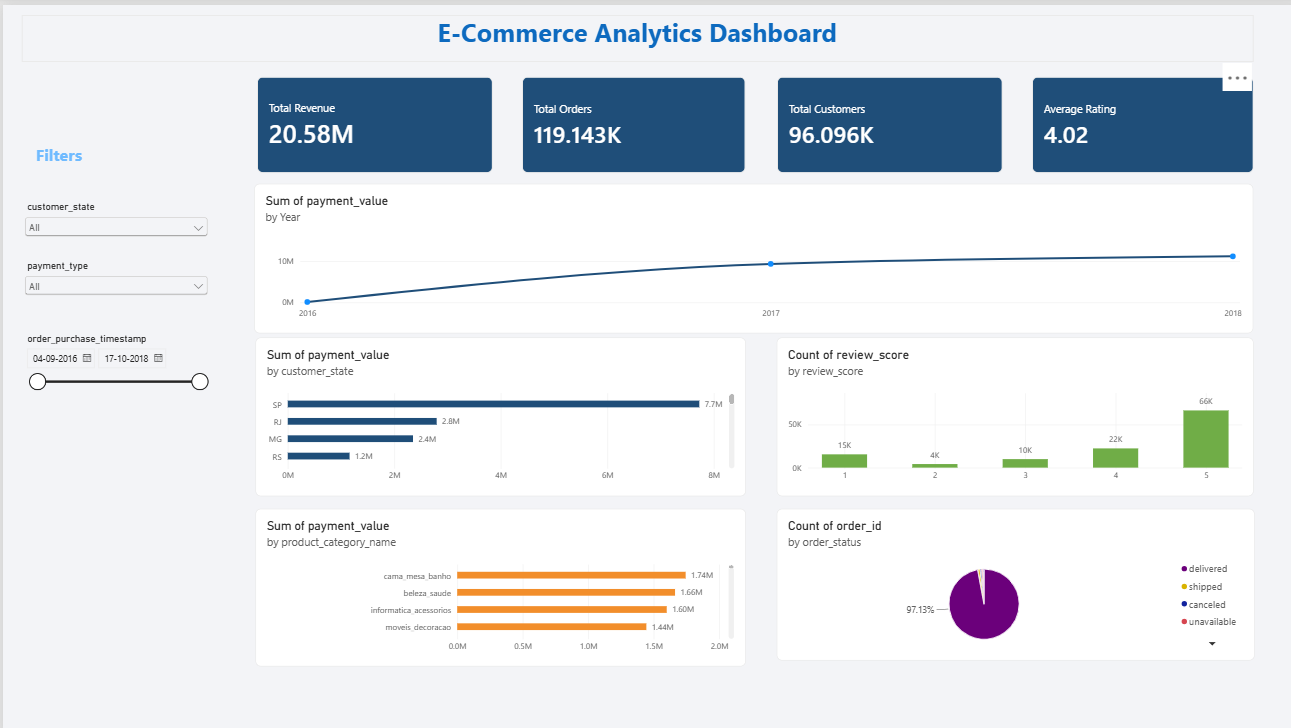

The dashboard page shown, as its layout file describes it:
{"tool":"powerbi","page":{"name":"Executive Summary","canvas":[1920,1080],"ordinal":0},"visuals":[{"type":"cardVisual","fields":{"Data":["Sum(master_dataset.payment_value)"]},"box":[375.7,105.7,350.8,144.6],"z":0},{"type":"lineChart","fields":{"Category":["master_dataset.order_purchase_timestamp.Variation.Date Hierarchy.Year","master_dataset.order_purchase_timestamp.Variation.Date Hierarchy.Quarter","master_dataset.order_purchase_timestamp.Variation.Date Hierarchy.Month","master_dataset.order_purchase_timestamp.Variation.Date Hierarchy.Day"],"Y":["Sum(master_dataset.payment_value)"]},"box":[372,264,1480,221.5],"z":1000},{"type":"barChart","fields":{"Category":["master_dataset.customer_state"],"Y":["Sum(master_dataset.payment_value)"]},"box":[374,492,726.7,235],"z":2000},{"type":"barChart","fields":{"Category":["master_dataset.product_category_name"],"Y":["Sum(master_dataset.payment_value)"]},"box":[373.3,746.7,726.2,233.8],"z":3000},{"type":"clusteredColumnChart","fields":{"Category":["master_dataset.review_score"],"Y":["CountNonNull(master_dataset.review_score)"]},"box":[1146.7,491.7,706.7,235],"z":4000},{"type":"pieChart","fields":{"Category":["master_dataset.order_status"],"Y":["CountNonNull(master_dataset.order_id)"]},"box":[1146.7,746.7,707.7,224.6],"z":5000},{"type":"slicer","fields":{"Values":["master_dataset.customer_state"]},"box":[28.3,290,280,83.3],"z":6000},{"type":"slicer","fields":{"Values":["master_dataset.payment_type"]},"box":[28.3,378.3,280,113.8],"z":7000},{"type":"slicer","fields":{"Values":["master_dataset.order_purchase_timestamp"]},"box":[28.3,485,280,141.5],"z":8000},{"type":"cardVisual","fields":{"Data":["CountNonNull(master_dataset.order_id)"]},"box":[768.6,105.7,332.3,144.6],"z":9000},{"type":"cardVisual","fields":{"Data":["Count(master_dataset.customer_unique_id)"]},"box":[1147.1,105.7,335.4,144.6],"z":10000},{"type":"cardVisual","fields":{"Data":["Avg(master_dataset.review_score)"]},"box":[1524.3,105.7,329.2,144.6],"z":11000},{"type":"textbox","box":[28,14,1824,70],"z":11001},{"type":"textbox","box":[28,206,110,44],"z":11002}]}

Visuals, with their boxes in screenshot pixels (x1, y1, x2, y2), scaled from the page's 1920x1080 canvas onto the 1291x728 screenshot:
cardVisual - Sum(master_dataset.payment_value): [left=253, top=71, right=488, bottom=169]
lineChart - master_dataset.order_purchase_timestamp.Variation.Date Hierarchy.Year x master_dataset.order_purchase_timestamp.Variation.Date Hierarchy.Quarter: [left=250, top=178, right=1245, bottom=327]
barChart - master_dataset.customer_state x Sum(master_dataset.payment_value): [left=251, top=332, right=740, bottom=490]
barChart - master_dataset.product_category_name x Sum(master_dataset.payment_value): [left=251, top=503, right=739, bottom=661]
clusteredColumnChart - master_dataset.review_score x CountNonNull(master_dataset.review_score): [left=771, top=331, right=1246, bottom=490]
pieChart - master_dataset.order_status x CountNonNull(master_dataset.order_id): [left=771, top=503, right=1247, bottom=655]
slicer - master_dataset.customer_state: [left=19, top=195, right=207, bottom=252]
slicer - master_dataset.payment_type: [left=19, top=255, right=207, bottom=332]
slicer - master_dataset.order_purchase_timestamp: [left=19, top=327, right=207, bottom=422]
cardVisual - CountNonNull(master_dataset.order_id): [left=517, top=71, right=740, bottom=169]
cardVisual - Count(master_dataset.customer_unique_id): [left=771, top=71, right=997, bottom=169]
cardVisual - Avg(master_dataset.review_score): [left=1025, top=71, right=1246, bottom=169]
textbox: [left=19, top=9, right=1245, bottom=57]
textbox: [left=19, top=139, right=93, bottom=169]
